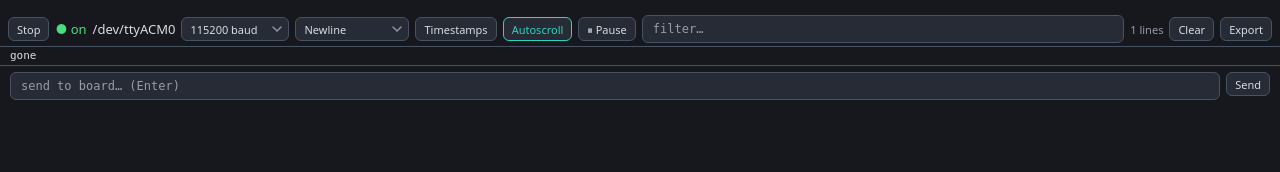
SerialMonitor log › clears on demand
The width and height of the screenshot is (1280, 172).
Click the button "Clear" at (1192, 29), box [1169,17,1214,41]
Wait 150 ms
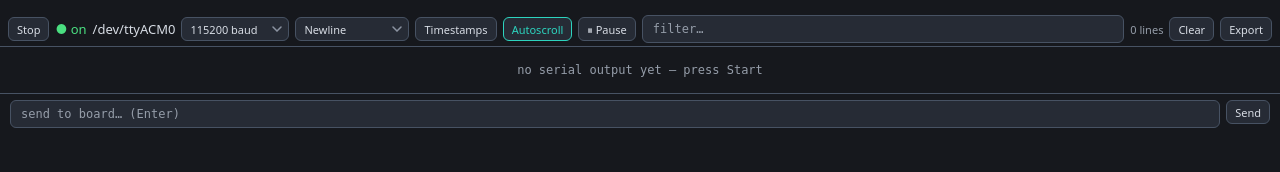
Result: no elements with class "serial-row" are shown
